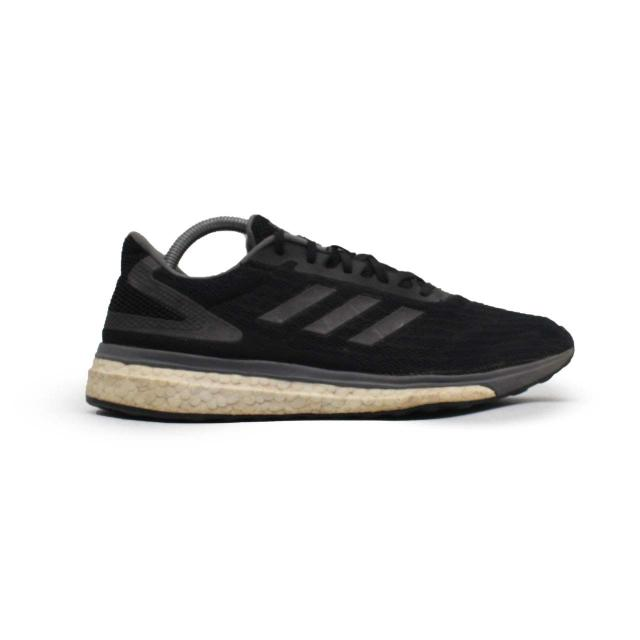heel: (106, 233, 158, 346)
midsole: (88, 339, 575, 414)
uppersole: (151, 220, 574, 374)
